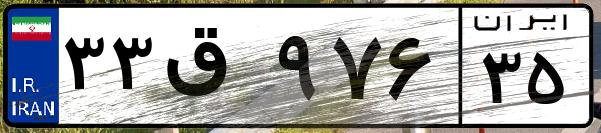3: (57, 26, 110, 100), (475, 38, 525, 113), (110, 28, 158, 98)
5: (525, 38, 570, 115)
6: (385, 28, 445, 110)
7: (330, 28, 385, 110)
9: (270, 28, 330, 110)
ق: (158, 20, 270, 120)
